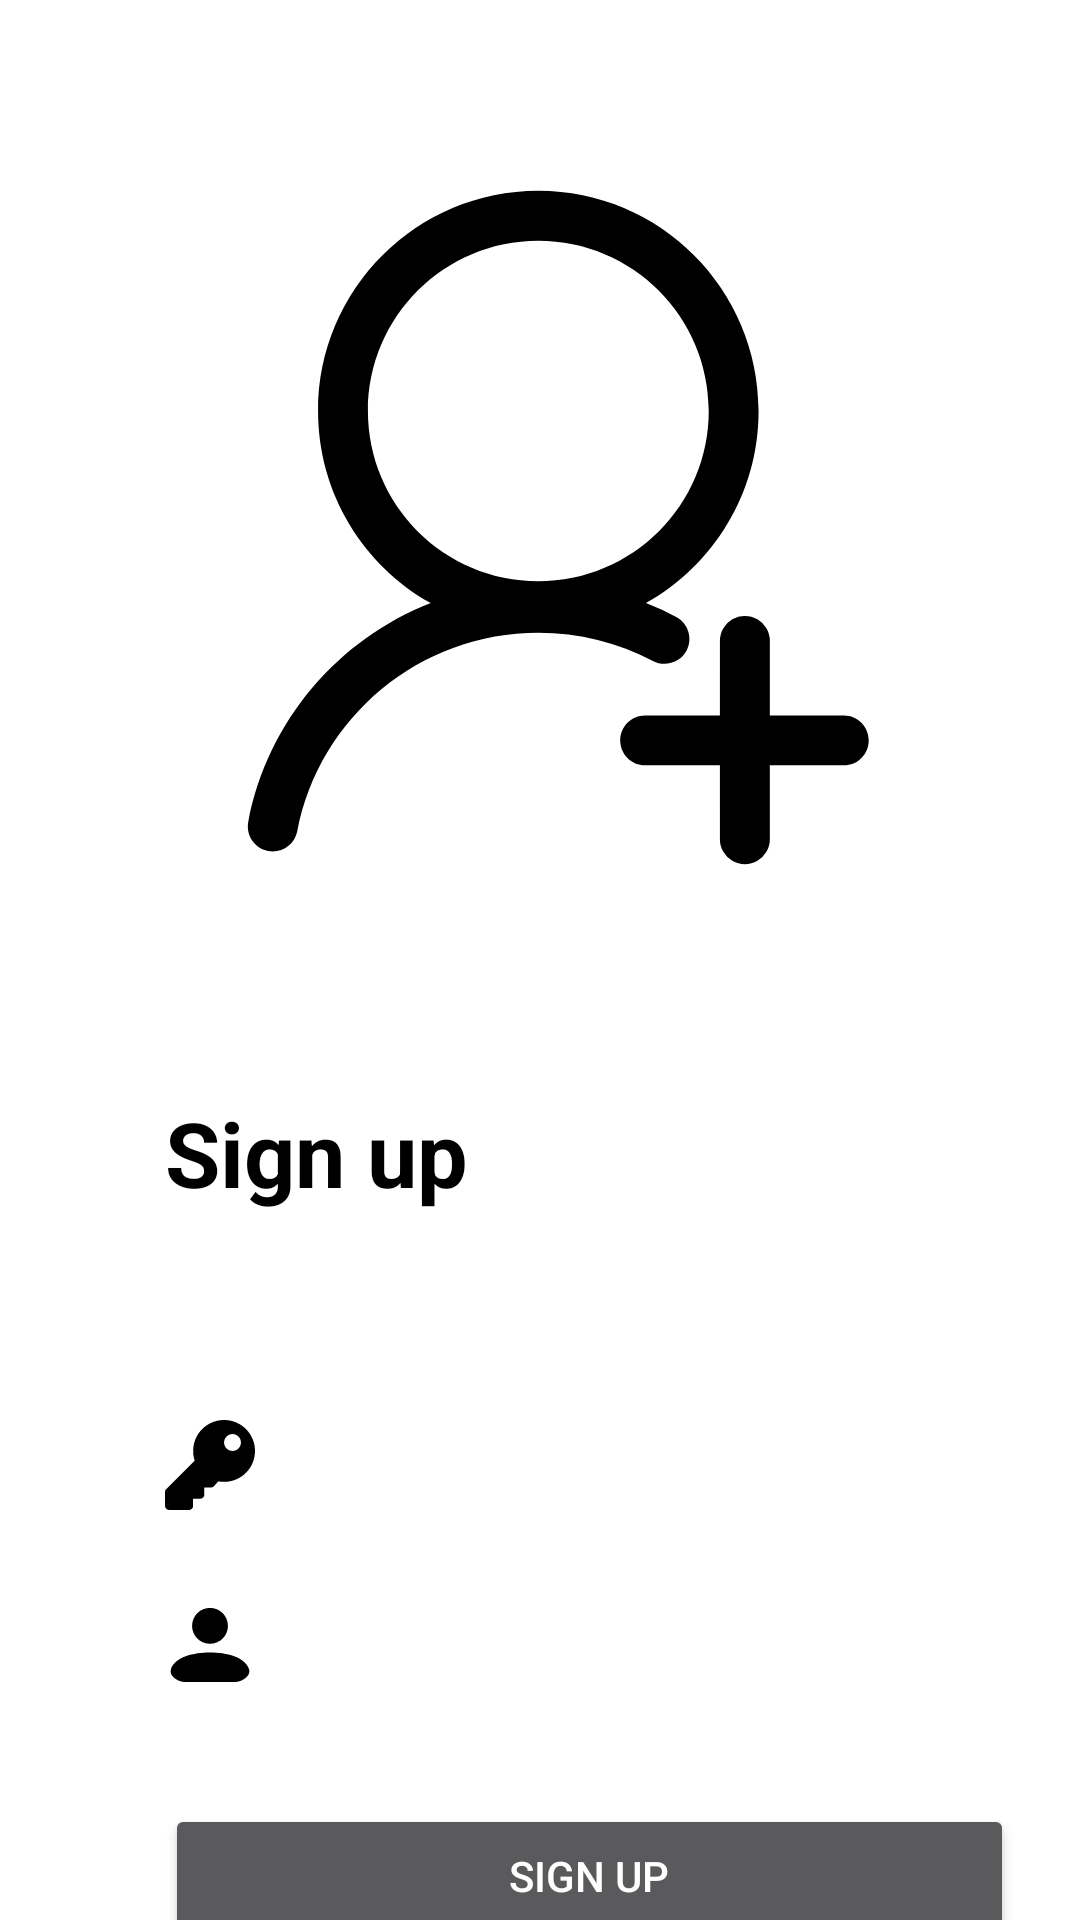

Icon click points for this 1080 x 1920 phone screenshot, format (x,y):
key: (210,1465)
